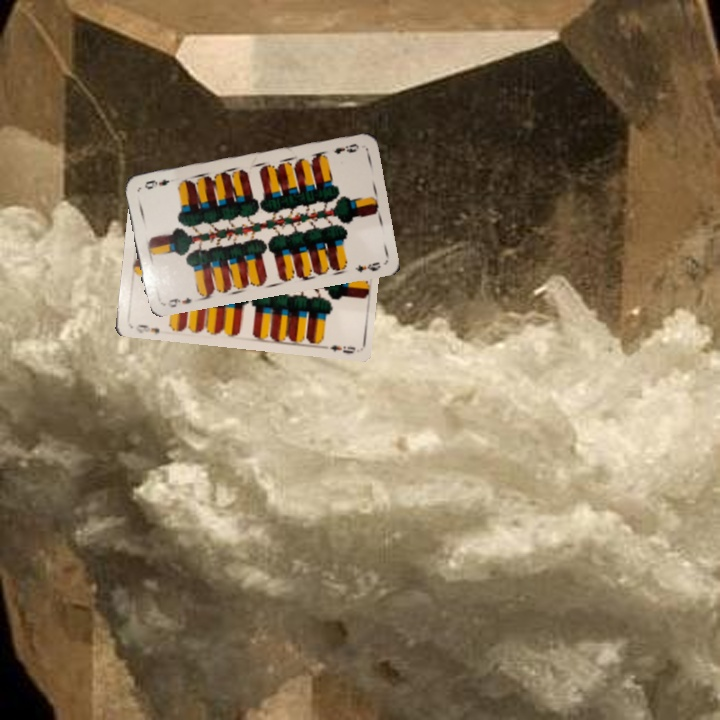E9: (132, 320, 162, 337), (164, 293, 194, 310), (330, 140, 361, 156)
